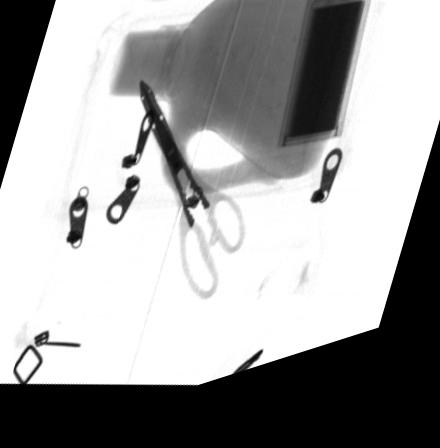Powerbank: (274, 0, 375, 167)
Scissors: (136, 85, 246, 311)
